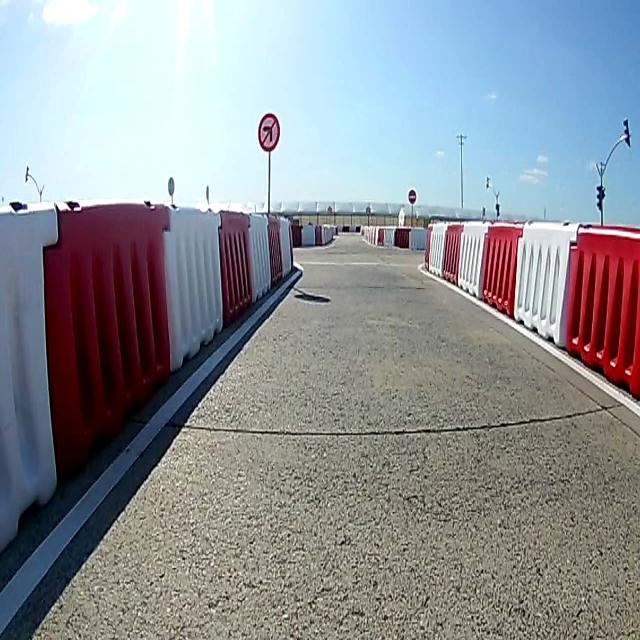girisyok: (408, 188, 417, 204)
soladonulmez: (258, 112, 280, 152)
